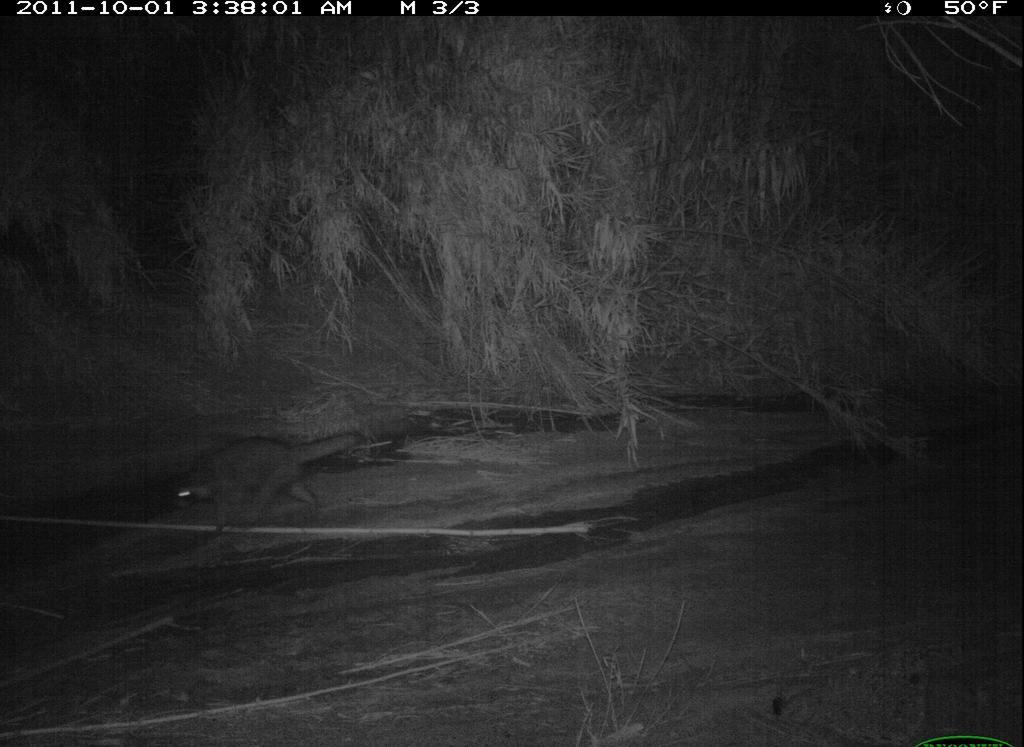raccoon: (158, 429, 372, 545)
